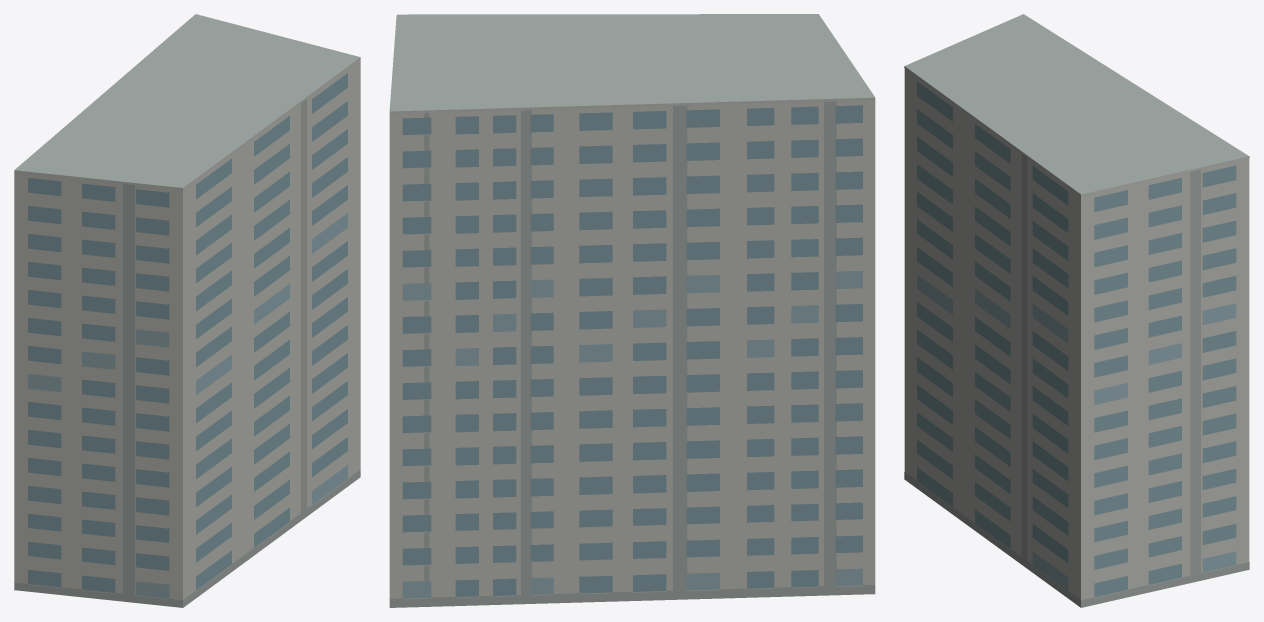
The model's file is residential-6ff0a478-6c73-4c68-b6b1-9ff5462d3c53.glb.
3 views of the same model, side by side, from view 1: azimuth 30°, elevation 25°; view 2: azimuth 150°, elevation 25°; view 3: azimuth 270°, elevation 25° (orthographic). The views are drawn at different scales.
Visible parts, largest first — view 1: residential-6ff0a478-6c73-4c68-b6b1-9ff5462d3c53.tmp; view 2: residential-6ff0a478-6c73-4c68-b6b1-9ff5462d3c53.tmp; view 3: residential-6ff0a478-6c73-4c68-b6b1-9ff5462d3c53.tmp.
Part boxes in pixels (x1=…): residential-6ff0a478-6c73-4c68-b6b1-9ff5462d3c53.tmp: x1=14, y1=14, x2=360, y2=607; residential-6ff0a478-6c73-4c68-b6b1-9ff5462d3c53.tmp: x1=389, y1=14, x2=875, y2=607; residential-6ff0a478-6c73-4c68-b6b1-9ff5462d3c53.tmp: x1=904, y1=14, x2=1249, y2=607.
Bounding box in the file's own units: 42.85 × 45.75 × 34.61.
